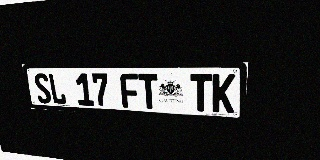1: (74, 73, 94, 106)
7: (90, 73, 111, 107)
F: (120, 74, 140, 108)
K: (212, 74, 235, 113)
L: (47, 73, 67, 105)
S: (33, 73, 52, 104)
T: (190, 74, 212, 112), (138, 74, 159, 109)
